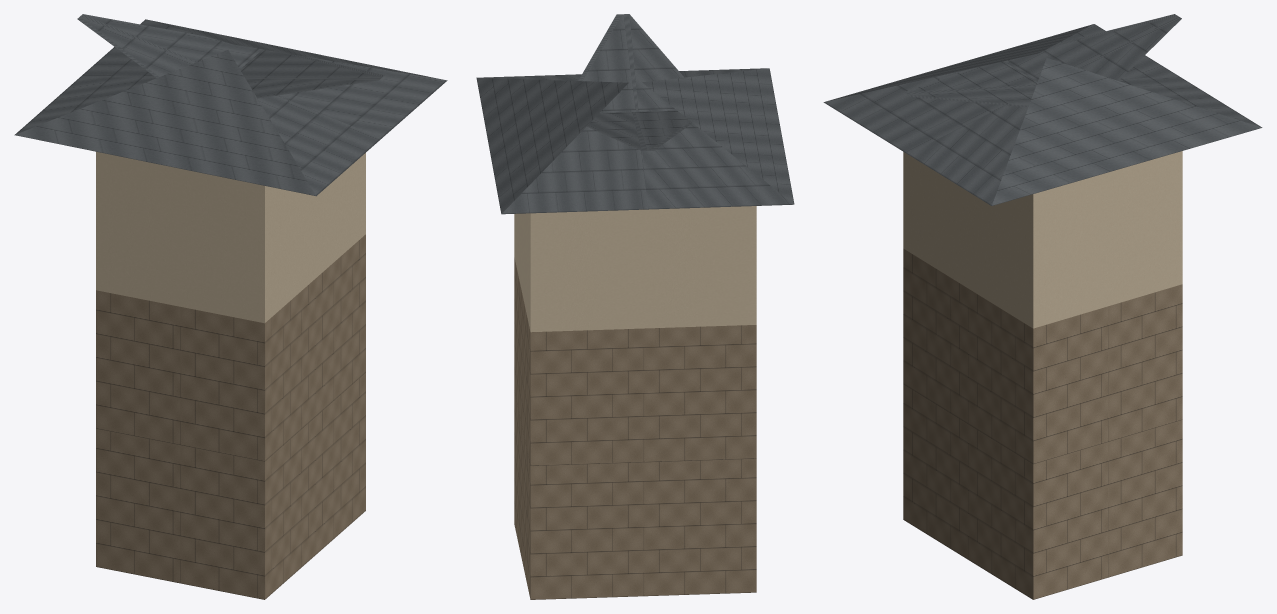
Rendered from bld_c2_16_467.gltf.
3 views of the same model, side by side, from view 1: azimuth 30°, elevation 25°; view 2: azimuth 150°, elevation 25°; view 3: azimuth 270°, elevation 25° (orthographic). The views are drawn at different scales.
Parts seen in each view (by area): view 1: bld_c2_16_467; view 2: bld_c2_16_467; view 3: bld_c2_16_467.
Part boxes in pixels (<box>): bld_c2_16_467: <box>14,14,447,599</box>; bld_c2_16_467: <box>476,14,794,599</box>; bld_c2_16_467: <box>823,14,1262,599</box>.
Size of the model in its own units: 6.57 by 8.1 by 6.69.
Materials: 3 (3 with a texture image).
